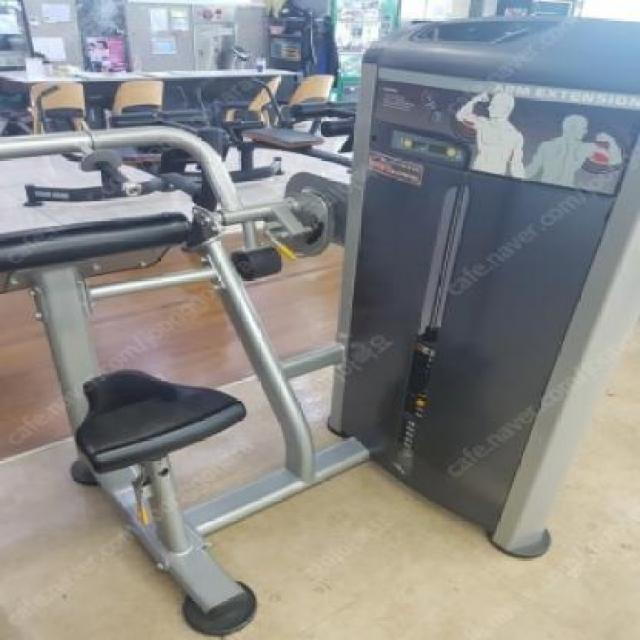arm curl machine: (4, 212, 554, 636)
